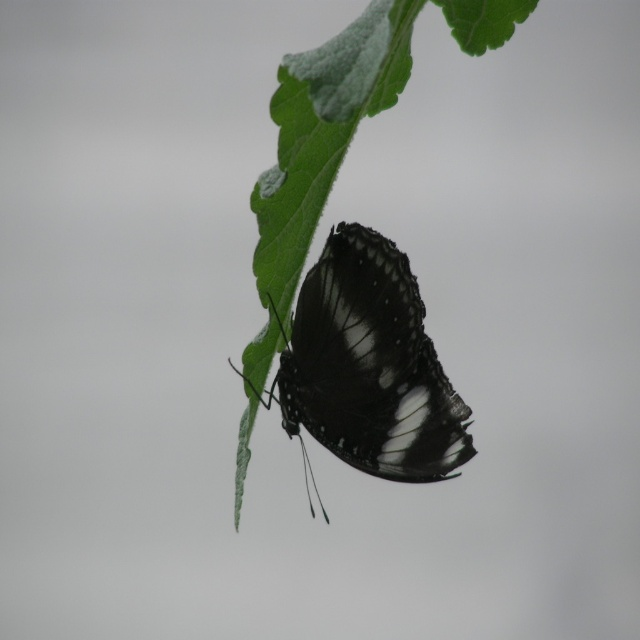Butterfly: (219, 216, 474, 526)
